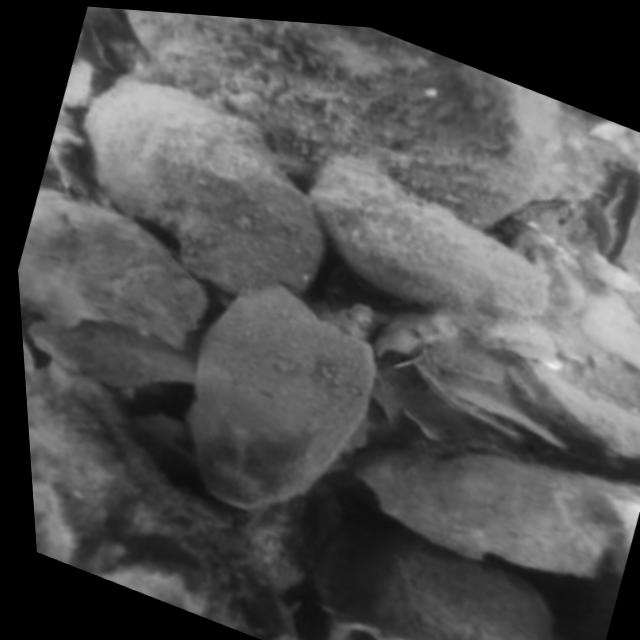Oyster-Indeterminate: (123, 9, 564, 233), (84, 78, 328, 298), (185, 284, 380, 518), (308, 153, 552, 320), (308, 503, 558, 640), (18, 193, 198, 348), (457, 66, 540, 161)
